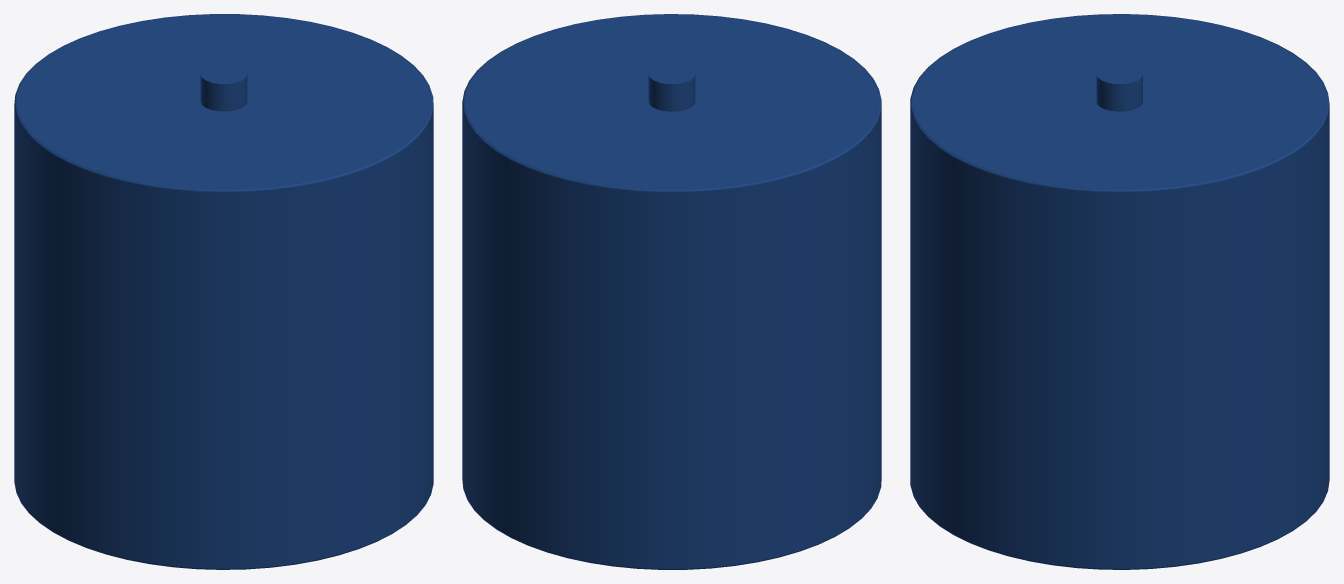
3 renders of one model, left to right at view 1: azimuth 30°, elevation 25°; view 2: azimuth 150°, elevation 25°; view 3: azimuth 270°, elevation 25°, orthographic.
Visible parts, largest first — view 1: ソリッド1; view 2: ソリッド1; view 3: ソリッド1.
Part boxes in pixels (x1,y1,x2,y2): ソリッド1: [14, 14, 433, 569]; ソリッド1: [462, 14, 881, 569]; ソリッド1: [910, 14, 1329, 569].
Size of the model in its own units: 180 by 193 by 180.
